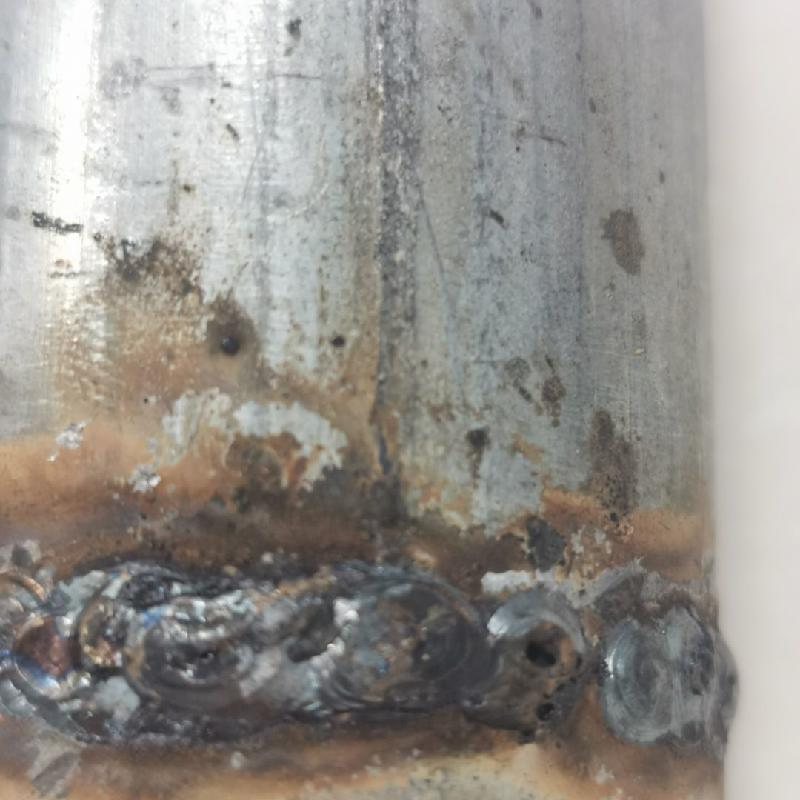Surface_pores: (508, 605, 569, 729)
